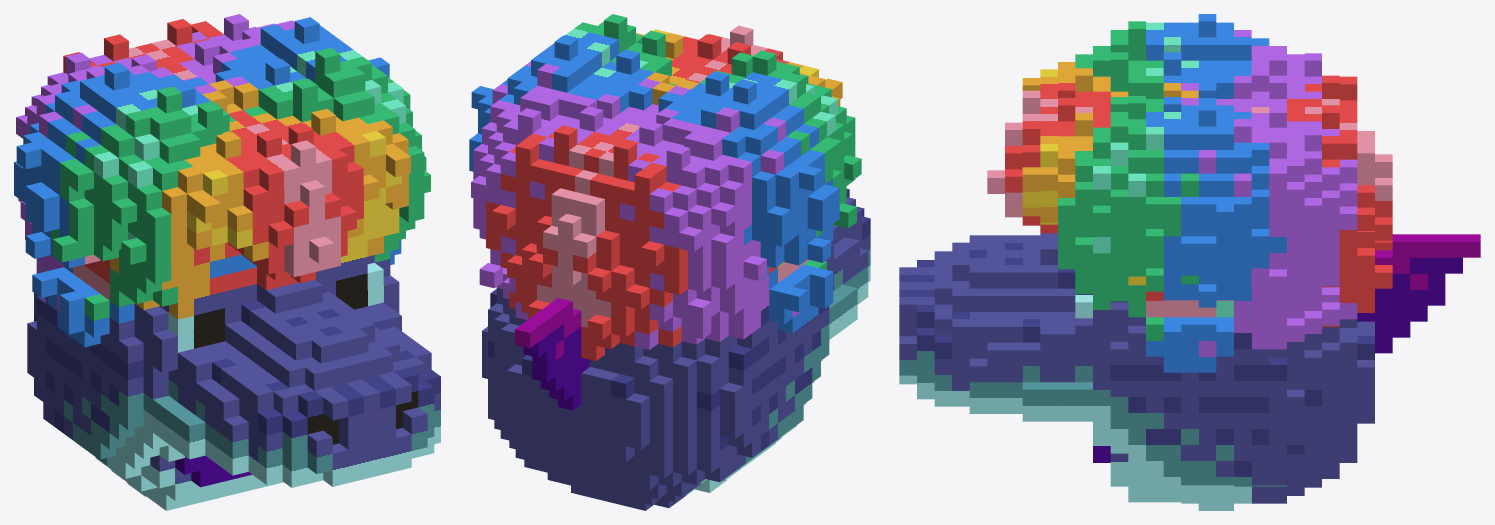
File: clown wig_red glasses.gltf
3 views of the same model, side by side, from view 1: azimuth 30°, elevation 25°; view 2: azimuth 150°, elevation 25°; view 3: azimuth 270°, elevation 25° (orthographic). The views are drawn at different scales.
Visible parts, largest first — view 1: C08_H_ClownW_RedG_RainbowSpec-Mesh; view 2: C08_H_ClownW_RedG_RainbowSpec-Mesh; view 3: C08_H_ClownW_RedG_RainbowSpec-Mesh.
Boxes of the visible parts, x1=… form: C08_H_ClownW_RedG_RainbowSpec-Mesh: x1=14, y1=14, x2=440, y2=510; C08_H_ClownW_RedG_RainbowSpec-Mesh: x1=469, y1=14, x2=870, y2=510; C08_H_ClownW_RedG_RainbowSpec-Mesh: x1=899, y1=14, x2=1480, y2=510.
Size of the model in its own units: 23 by 26 by 33.
1 material, 1 textured.
